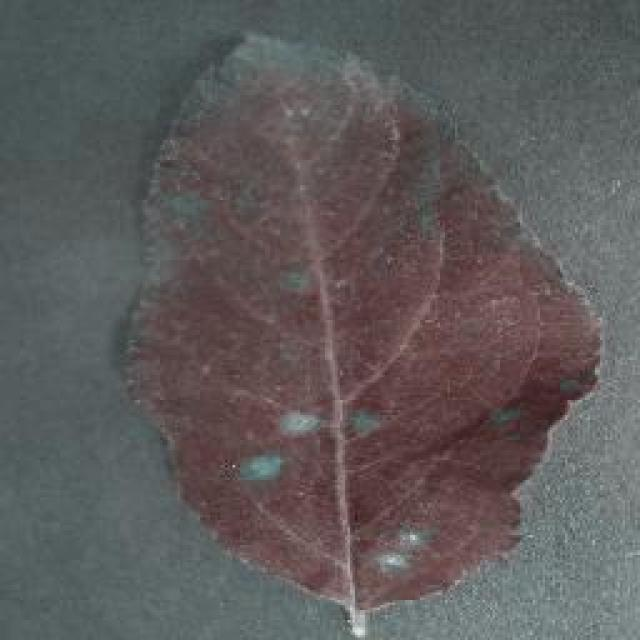apple scab disease: (115, 28, 603, 632)
